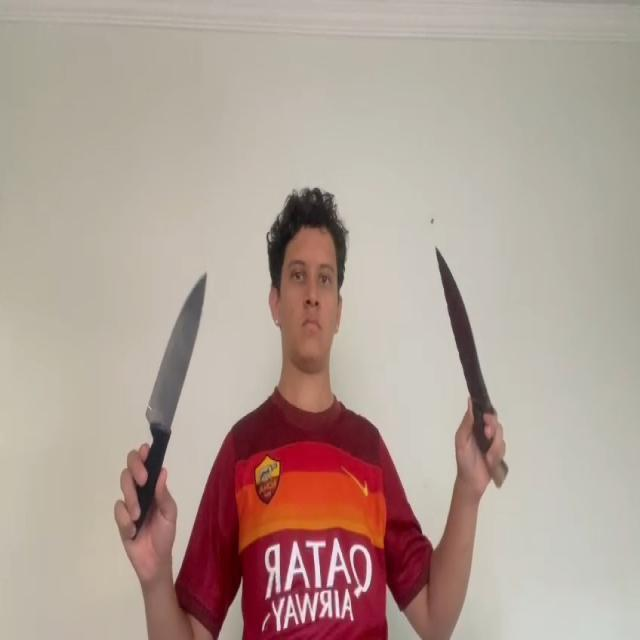knife: (436, 243, 492, 409), (146, 269, 207, 421)
